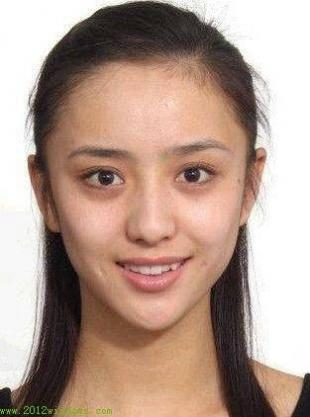unmask: (59, 85, 243, 308)
